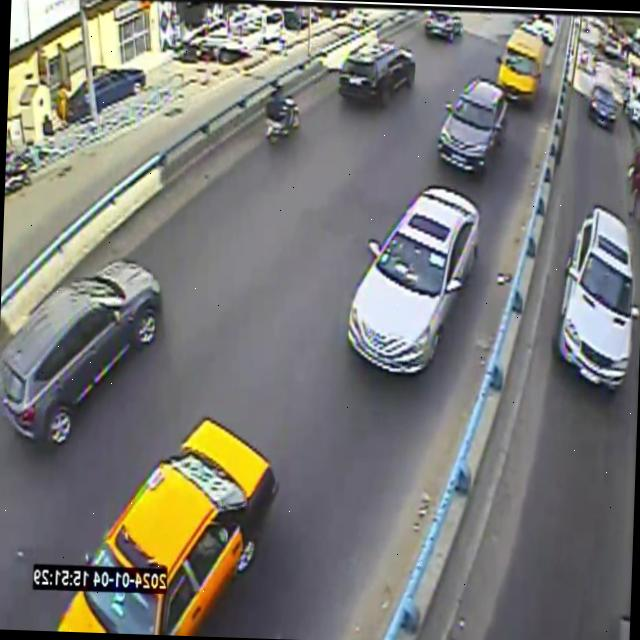car: (59, 418, 277, 635), (0, 259, 162, 445), (349, 186, 480, 372), (438, 76, 508, 172), (338, 40, 415, 105), (497, 28, 547, 102), (424, 9, 463, 41)
